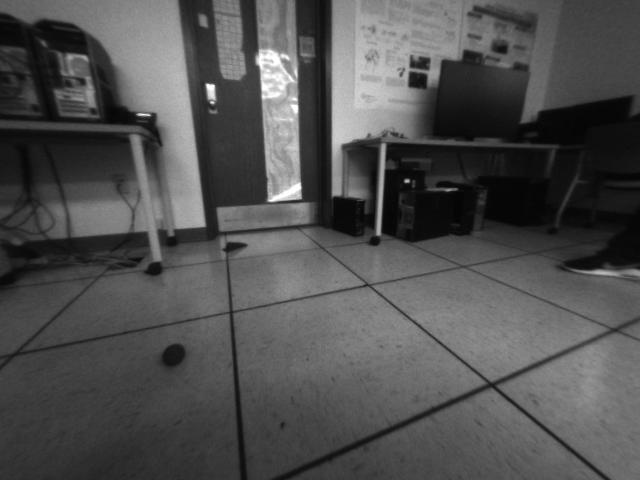dogtoy: (157, 338, 191, 371)
